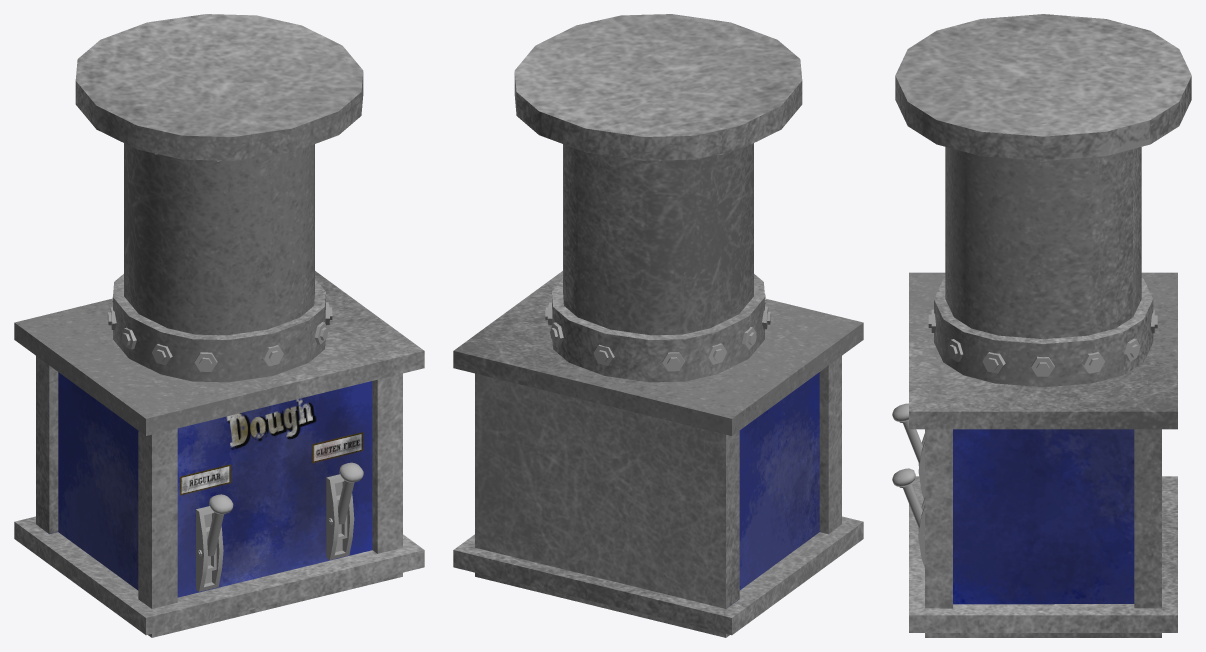
The model's file is Dough Spawner.FBX.
The picture shows the model from 3 angles, left to right: view 1: azimuth 30°, elevation 25°; view 2: azimuth 150°, elevation 25°; view 3: azimuth 270°, elevation 25°; orthographic projection. The views are drawn at different scales.
Parts seen in each view (by area): view 1: Dough Spawner, Lever Base001, Lever Base, Lever002, Lever001; view 2: Dough Spawner; view 3: Dough Spawner, Lever001, Lever002.
Boxes of the visible parts, x1,y1,x2,y2 form: Dough Spawner: [14, 14, 424, 637]; Lever Base001: [326, 474, 354, 559]; Lever Base: [196, 506, 223, 591]; Lever002: [207, 494, 233, 556]; Lever001: [338, 462, 363, 524]; Dough Spawner: [453, 14, 863, 637]; Dough Spawner: [895, 14, 1191, 637]; Lever001: [892, 468, 922, 528]; Lever002: [892, 403, 922, 464].
Size of the model in its own units: 70.41 by 118 by 64.16.
